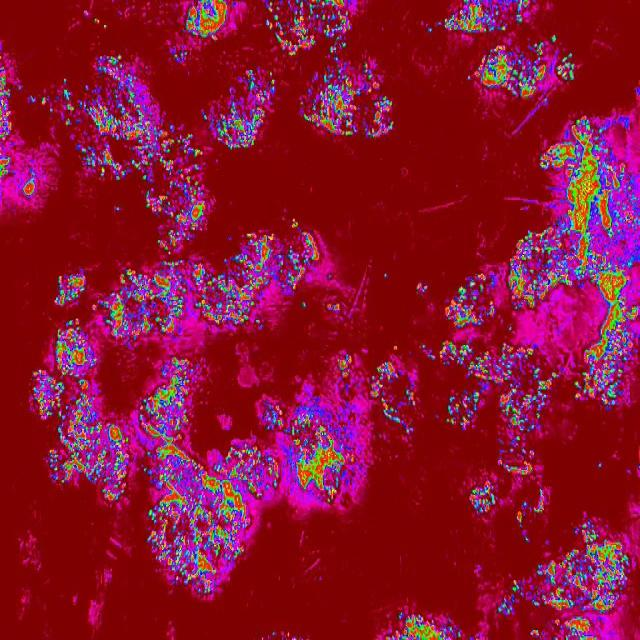fire: (537, 117, 640, 301), (140, 442, 256, 602), (97, 259, 218, 341), (80, 53, 154, 183), (475, 344, 560, 444), (48, 316, 96, 484), (298, 58, 392, 141), (290, 402, 360, 512), (574, 302, 640, 410), (154, 123, 208, 254), (550, 542, 631, 612), (137, 356, 200, 445), (218, 230, 272, 330), (265, 0, 356, 54), (213, 72, 275, 148), (476, 38, 544, 102), (437, 0, 532, 35), (444, 270, 498, 329), (96, 420, 132, 506), (273, 230, 320, 290), (390, 614, 466, 640), (512, 229, 536, 311), (182, 0, 230, 39), (419, 341, 475, 373), (0, 61, 14, 176), (497, 442, 536, 481), (366, 361, 399, 403), (444, 390, 475, 431), (54, 270, 86, 309), (257, 450, 280, 500), (381, 404, 412, 438), (29, 369, 48, 423), (465, 484, 496, 516), (262, 402, 290, 436), (572, 519, 604, 542), (564, 617, 596, 640), (554, 52, 574, 82), (22, 169, 38, 201), (333, 350, 352, 376), (62, 87, 74, 127), (532, 487, 548, 512), (496, 600, 516, 619), (171, 47, 190, 67), (512, 506, 526, 533), (529, 592, 550, 608), (325, 302, 347, 316), (403, 386, 418, 406), (536, 563, 550, 577), (146, 186, 154, 210), (416, 280, 428, 294), (530, 627, 541, 639), (549, 32, 558, 46), (288, 219, 300, 229), (554, 618, 562, 632), (510, 582, 521, 592), (40, 94, 49, 105), (392, 344, 401, 354), (596, 461, 604, 472), (114, 204, 122, 215), (466, 72, 474, 83), (102, 20, 109, 32), (326, 270, 334, 280), (381, 270, 388, 281), (270, 630, 277, 640), (28, 94, 36, 102), (202, 110, 209, 119), (426, 27, 435, 34), (524, 536, 530, 546), (93, 14, 99, 24), (636, 460, 640, 474), (62, 76, 69, 83), (507, 324, 514, 331), (48, 106, 54, 114), (290, 637, 304, 640), (300, 302, 306, 307)
